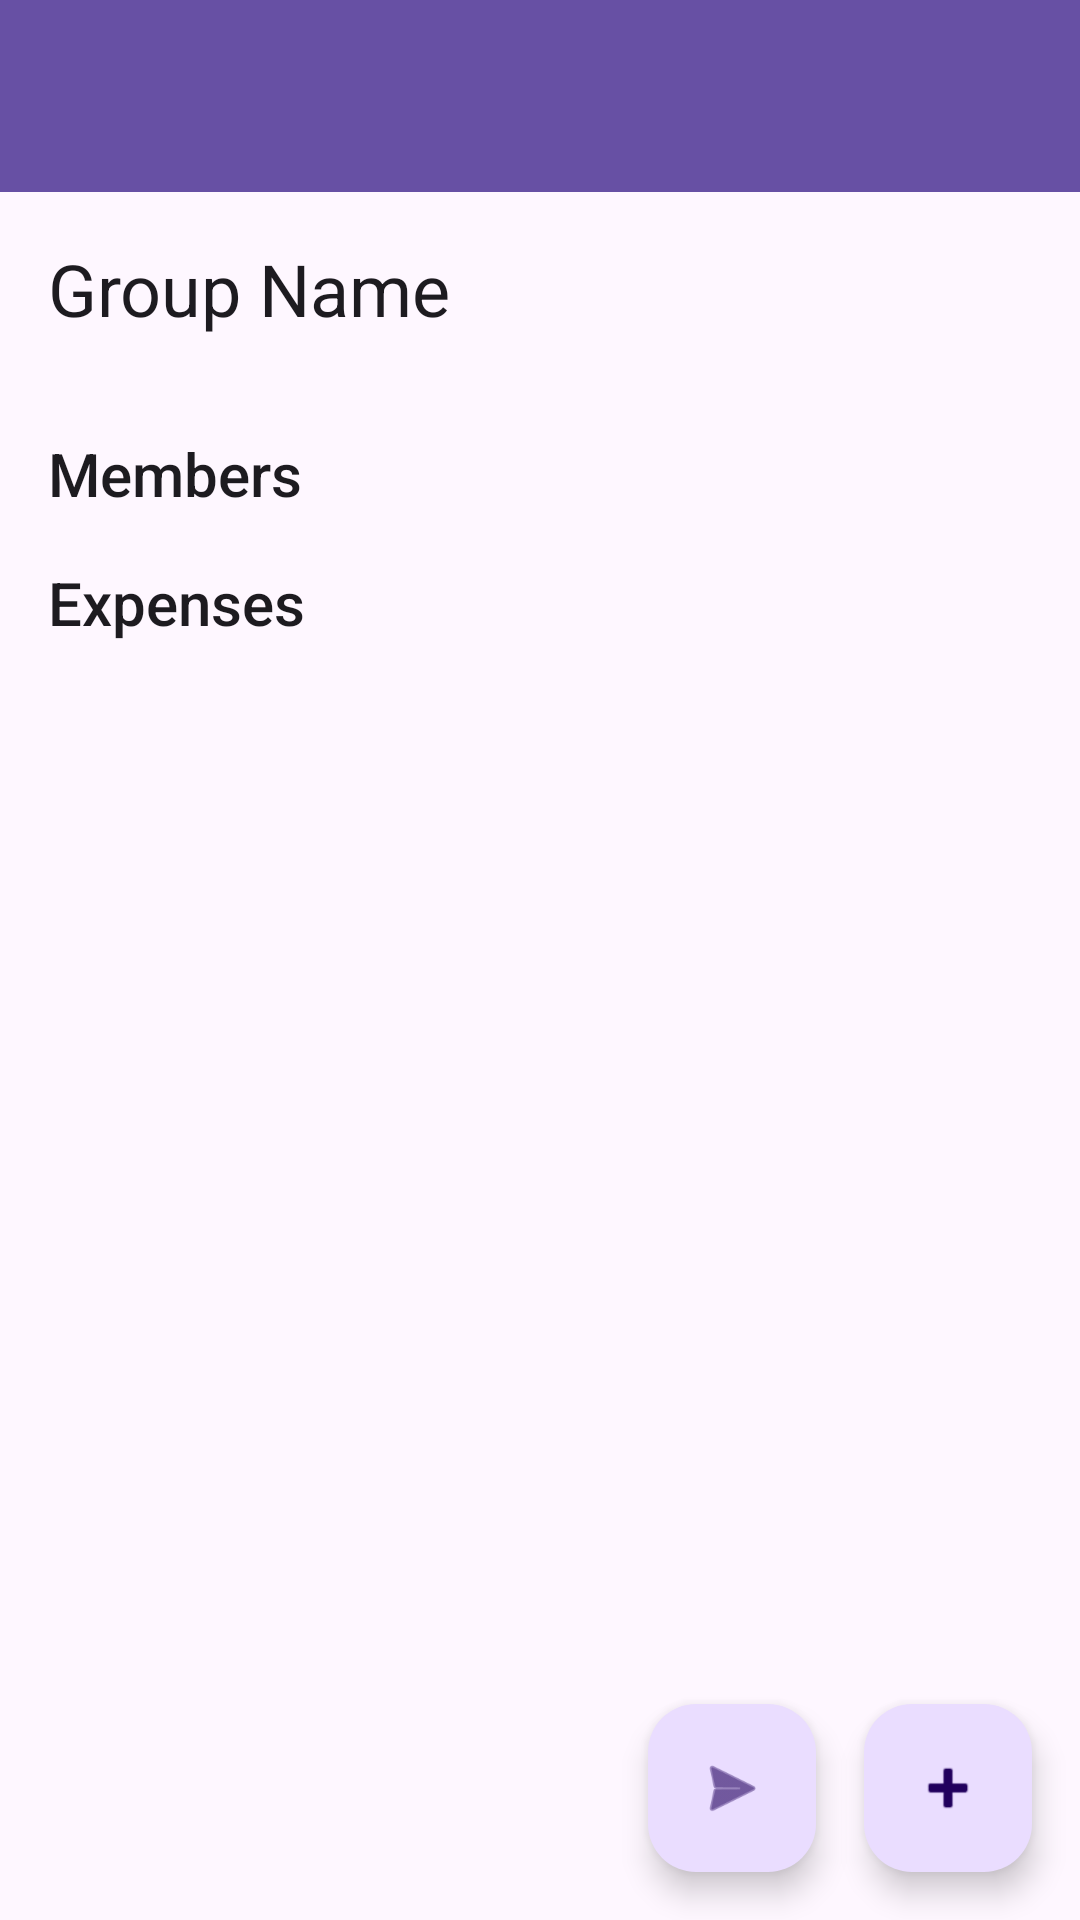

Where to tap for icons on this 1080x1920 app screen, as [x,y]:
add: [948,1788]
send: [732,1788]
